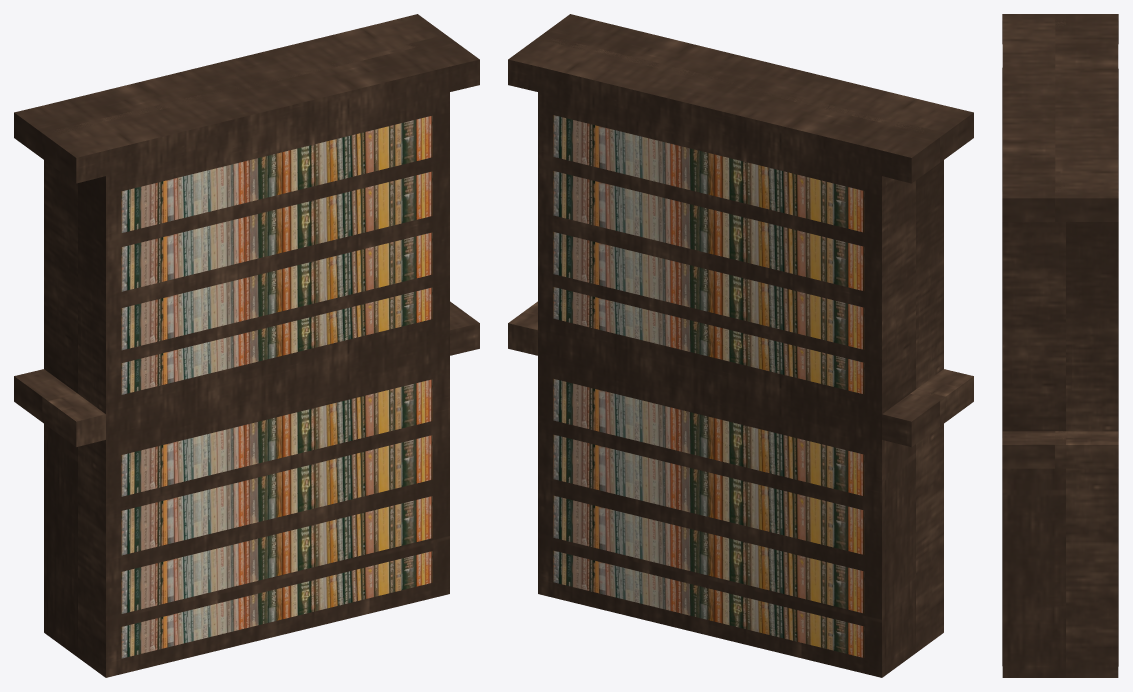
The model's file is doubleBookshelf.fbx.
3 renders of one model, left to right at view 1: azimuth 30°, elevation 25°; view 2: azimuth 150°, elevation 25°; view 3: azimuth 270°, elevation 25°, orthographic. The views are drawn at different scales.
Visible parts, largest first — view 1: bookshelf8, bookshelf9; view 2: bookshelf9, bookshelf8; view 3: bookshelf8, bookshelf9.
Boxes of the visible parts, x1=… form: bookshelf8: x1=42, y1=34, x2=479, y2=677; bookshelf9: x1=14, y1=14, x2=445, y2=657; bookshelf9: x1=508, y1=35, x2=945, y2=677; bookshelf8: x1=539, y1=14, x2=973, y2=652; bookshelf8: x1=1002, y1=14, x2=1065, y2=677; bookshelf9: x1=1055, y1=14, x2=1118, y2=677.
Size of the model in its own units: 473 by 590 by 126.
